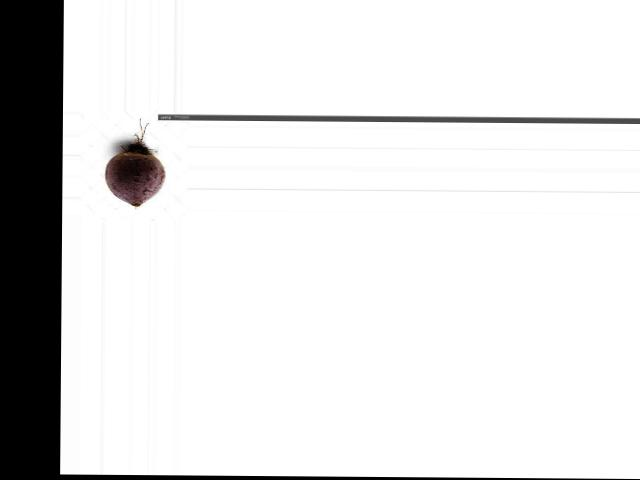beet: (105, 117, 166, 207)
